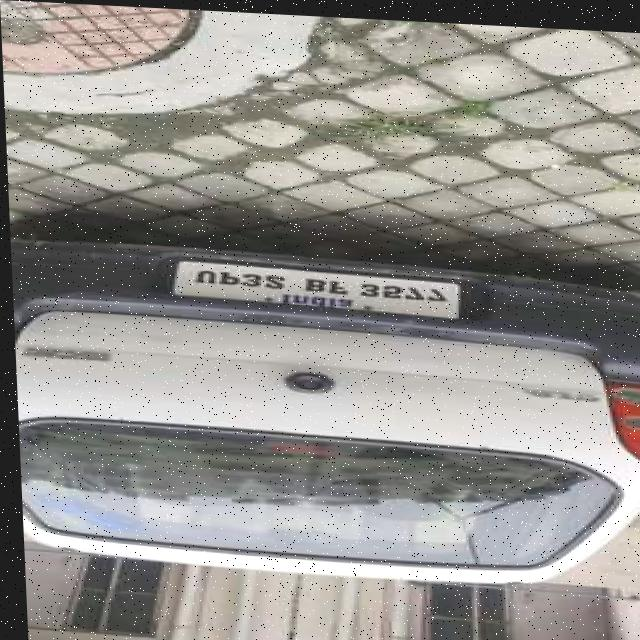plate: (171, 261, 462, 314)
